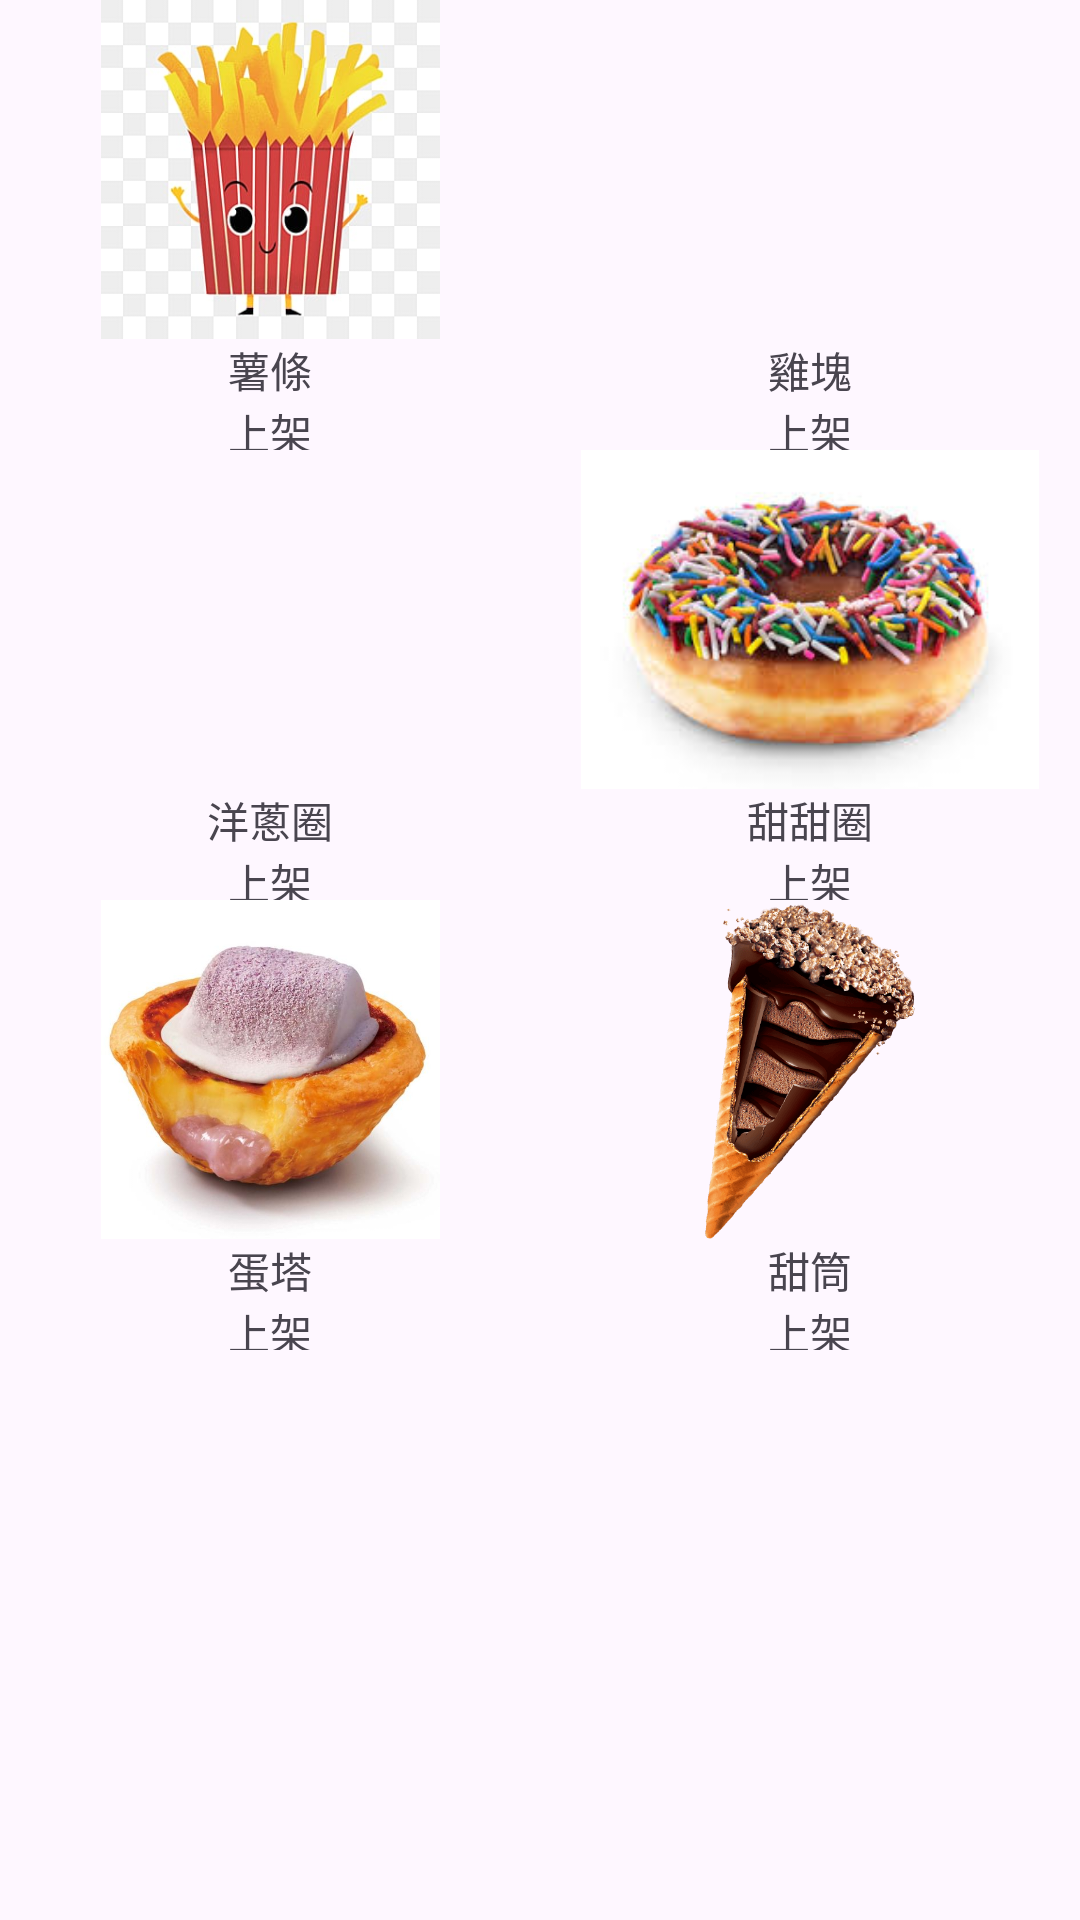

Point at icon controls on the screen. Image size 1080*1920, points as point (x, y).
ice: point (810, 1072)
